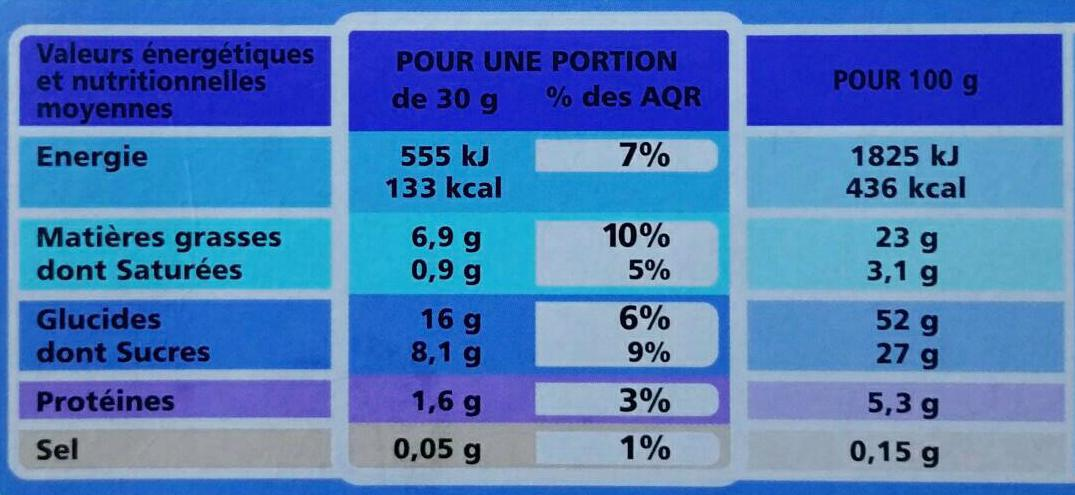column: (30, 49, 309, 470), (829, 59, 979, 459), (385, 140, 503, 463), (604, 138, 681, 458)
line: (33, 52, 979, 126), (34, 144, 965, 198), (33, 384, 946, 418), (35, 437, 944, 467), (34, 337, 944, 366), (37, 257, 942, 286), (31, 223, 945, 251), (37, 306, 942, 331)
table: (8, 15, 1075, 490)
